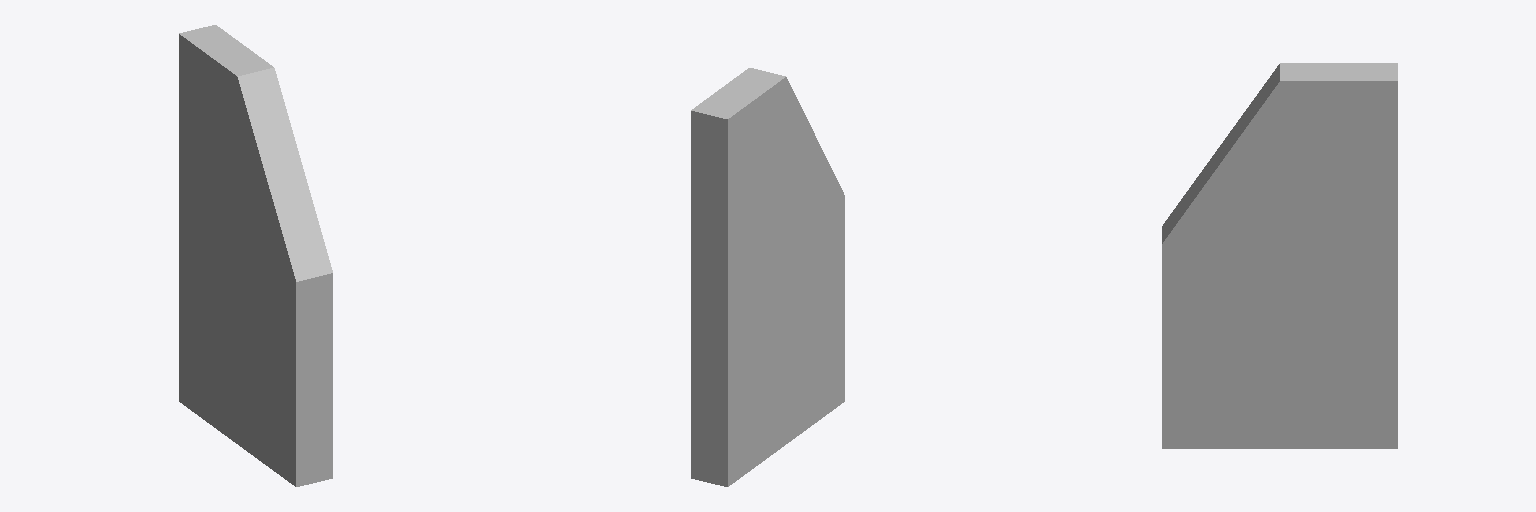
Rendered from doorlol.obj.
3 views of the same model, side by side, from view 1: azimuth 30°, elevation 25°; view 2: azimuth 150°, elevation 25°; view 3: azimuth 270°, elevation 25° (orthographic).
Parts seen in each view (by area): view 1: Cube; view 2: Cube; view 3: Cube.
Part boxes in pixels (x1,y1,x2,y2): Cube: (179, 25, 332, 486); Cube: (691, 68, 844, 486); Cube: (1162, 63, 1397, 448).
Size of the model in its own units: 0.4 by 3.8 by 2.2.